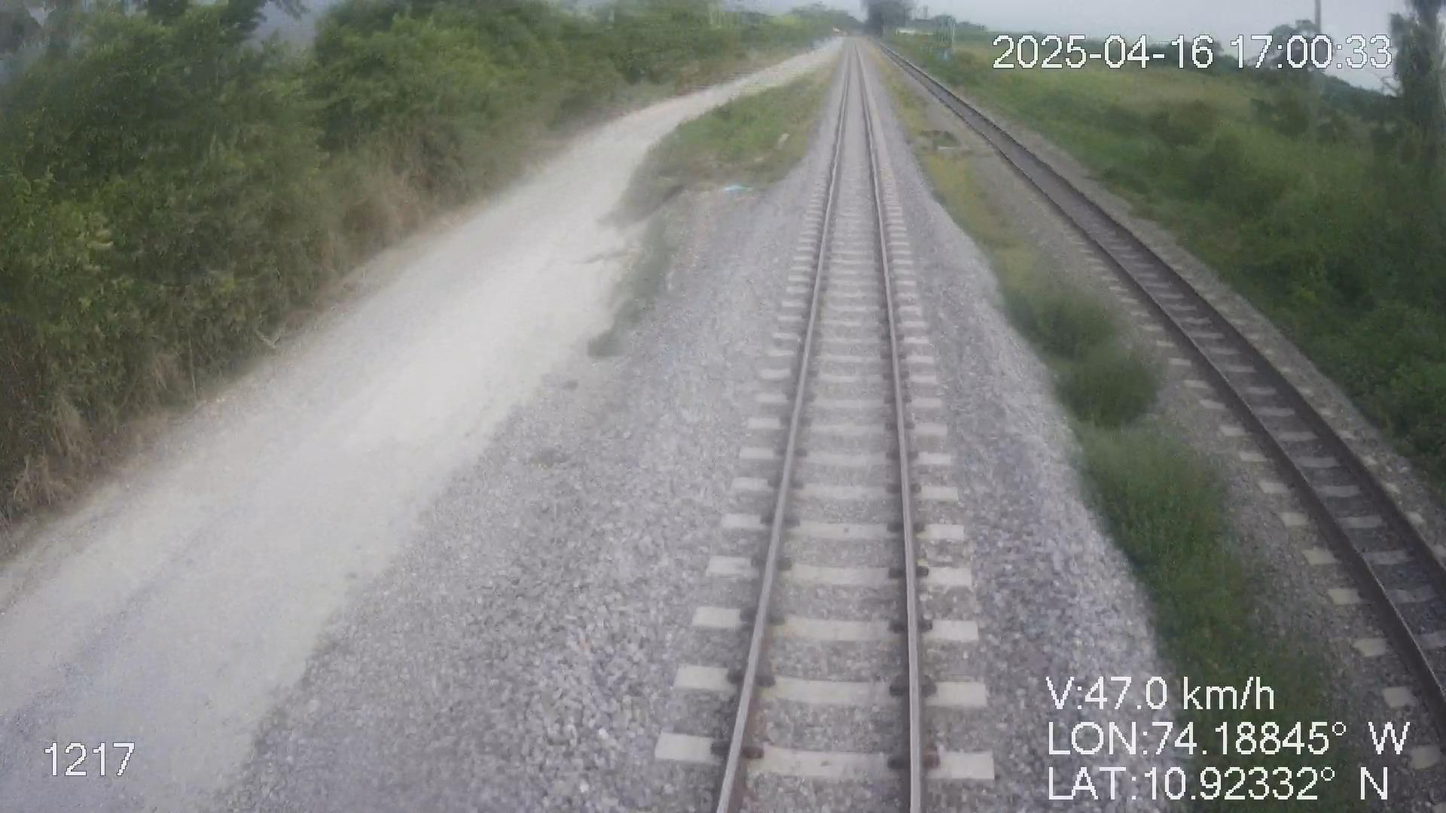Pasto: (0, 0, 847, 531), (914, 26, 1445, 507)
